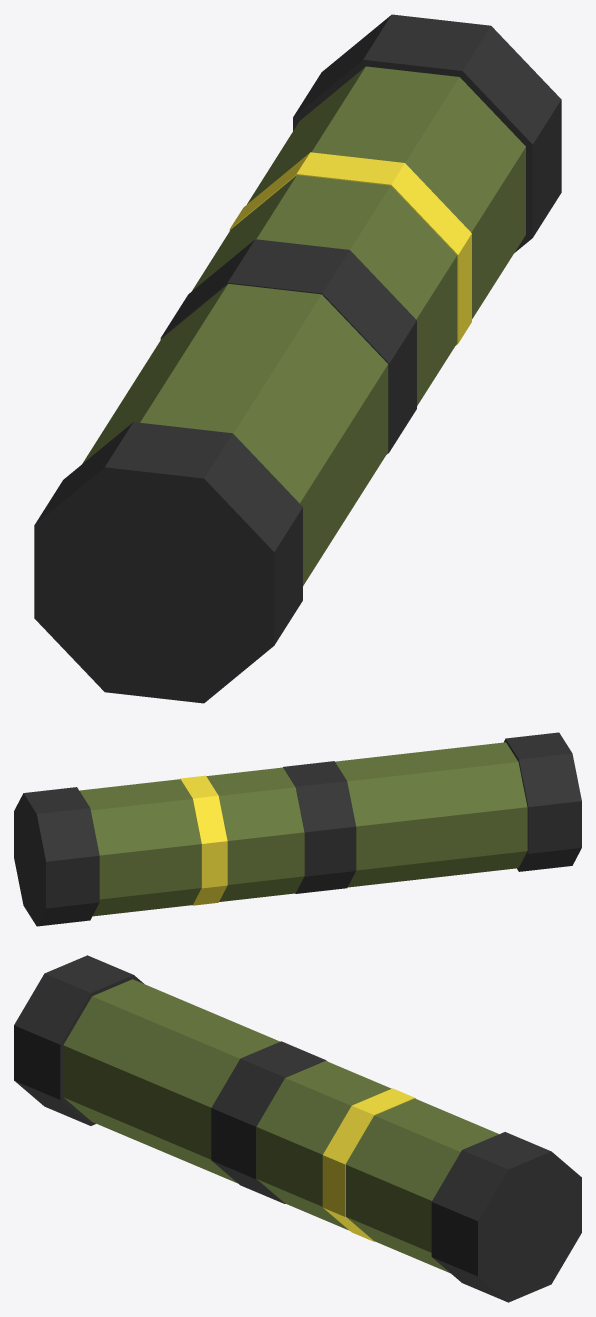
Rendered from ce_ammo2_rpg32_heat_a.obj.
3 views of the same model, one above another, from view 1: azimuth 30°, elevation 25°; view 2: azimuth 150°, elevation 25°; view 3: azimuth 270°, elevation 25° (orthographic). The views are drawn at different scales.
Parts seen in each view (by area): view 1: ce_ammo2_rpg32_heat_a_0, ce_ammo2_rpg32_heat_a_1, ce_ammo2_rpg32_heat_a_5, ce_ammo2_rpg32_heat_a_3, ce_ammo2_rpg32_heat_a_6, ce_ammo2_rpg32_heat_a_2, ce_ammo2_rpg32_heat_a_4; view 2: ce_ammo2_rpg32_heat_a_1, ce_ammo2_rpg32_heat_a_5, ce_ammo2_rpg32_heat_a_6, ce_ammo2_rpg32_heat_a_3, ce_ammo2_rpg32_heat_a_0, ce_ammo2_rpg32_heat_a_2, ce_ammo2_rpg32_heat_a_4; view 3: ce_ammo2_rpg32_heat_a_1, ce_ammo2_rpg32_heat_a_6, ce_ammo2_rpg32_heat_a_5, ce_ammo2_rpg32_heat_a_3, ce_ammo2_rpg32_heat_a_0, ce_ammo2_rpg32_heat_a_2, ce_ammo2_rpg32_heat_a_4.
Part boxes in pixels (left/top/right/bottom): ce_ammo2_rpg32_heat_a_0: left=34, top=422, right=302, bottom=703; ce_ammo2_rpg32_heat_a_1: left=82, top=284, right=388, bottom=585; ce_ammo2_rpg32_heat_a_5: left=247, top=66, right=525, bottom=318; ce_ammo2_rpg32_heat_a_3: left=192, top=175, right=457, bottom=405; ce_ammo2_rpg32_heat_a_6: left=293, top=14, right=561, bottom=252; ce_ammo2_rpg32_heat_a_2: left=160, top=239, right=416, bottom=454; ce_ammo2_rpg32_heat_a_4: left=229, top=152, right=471, bottom=345; ce_ammo2_rpg32_heat_a_1: left=335, top=742, right=527, bottom=887; ce_ammo2_rpg32_heat_a_5: left=79, top=779, right=201, bottom=916; ce_ammo2_rpg32_heat_a_6: left=14, top=787, right=99, bottom=926; ce_ammo2_rpg32_heat_a_3: left=206, top=767, right=304, bottom=901; ce_ammo2_rpg32_heat_a_0: left=504, top=732, right=581, bottom=871; ce_ammo2_rpg32_heat_a_2: left=283, top=761, right=356, bottom=893; ce_ammo2_rpg32_heat_a_4: left=180, top=775, right=227, bottom=905; ce_ammo2_rpg32_heat_a_1: left=63, top=979, right=279, bottom=1183; ce_ammo2_rpg32_heat_a_6: left=431, top=1132, right=581, bottom=1302; ce_ammo2_rpg32_heat_a_5: left=345, top=1098, right=498, bottom=1273; ce_ammo2_rpg32_heat_a_3: left=256, top=1061, right=391, bottom=1230; ce_ammo2_rpg32_heat_a_0: left=14, top=955, right=143, bottom=1125; ce_ammo2_rpg32_heat_a_2: left=211, top=1041, right=327, bottom=1203; ce_ammo2_rpg32_heat_a_4: left=322, top=1088, right=415, bottom=1241.
Bounding box in the file's own units: 0.6058 × 0.1566 × 0.6058.
